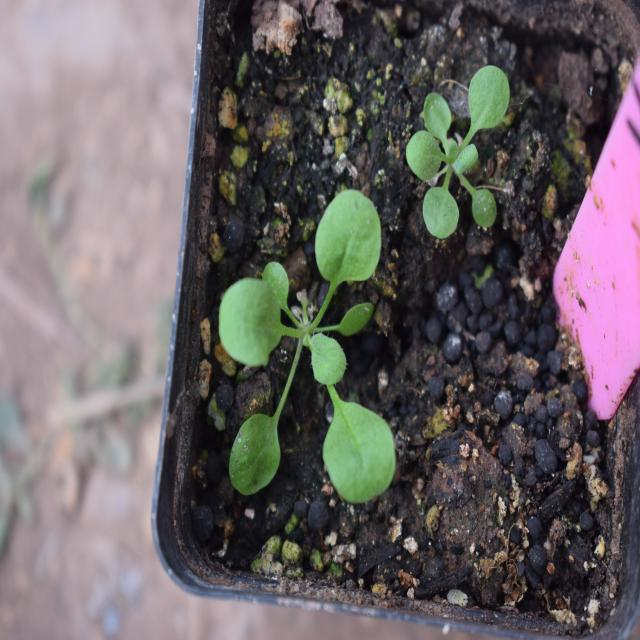Shepherd_Purse: (192, 180, 404, 512), (403, 66, 514, 267)
